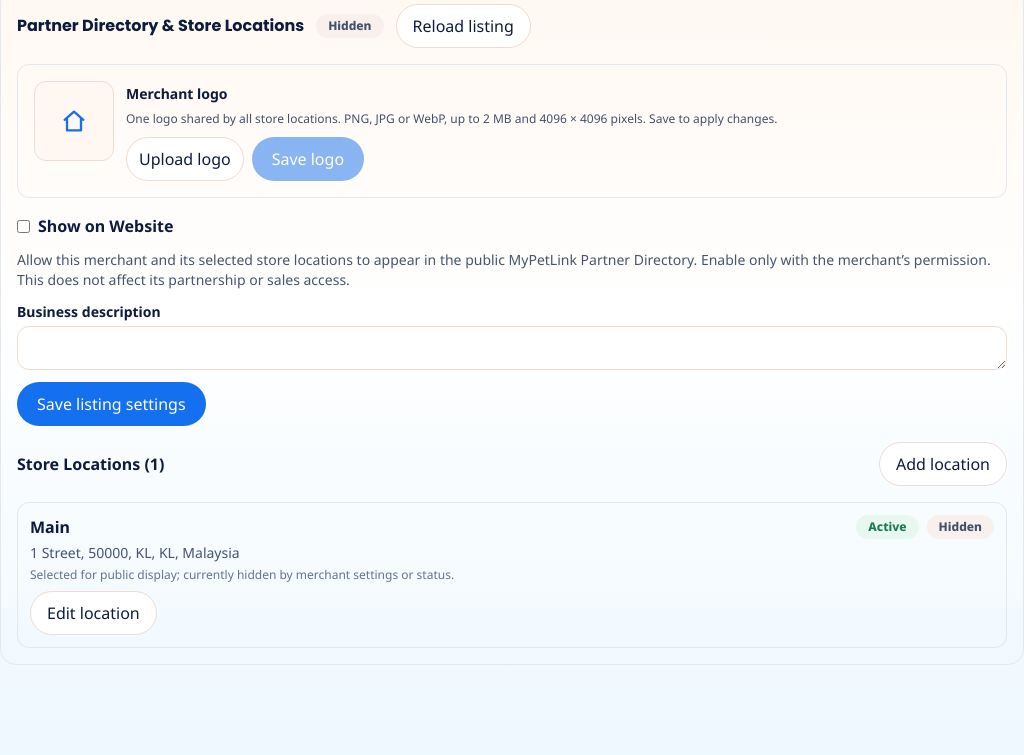
Test case: Merchant listing management › does not confirm or require evidence for branch edits that remain private
expect the heading "Main" is shown: met, box [30, 515, 70, 539]
Click the button "Edit location" at (93, 613), box [30, 591, 157, 635]
(page scrolled)
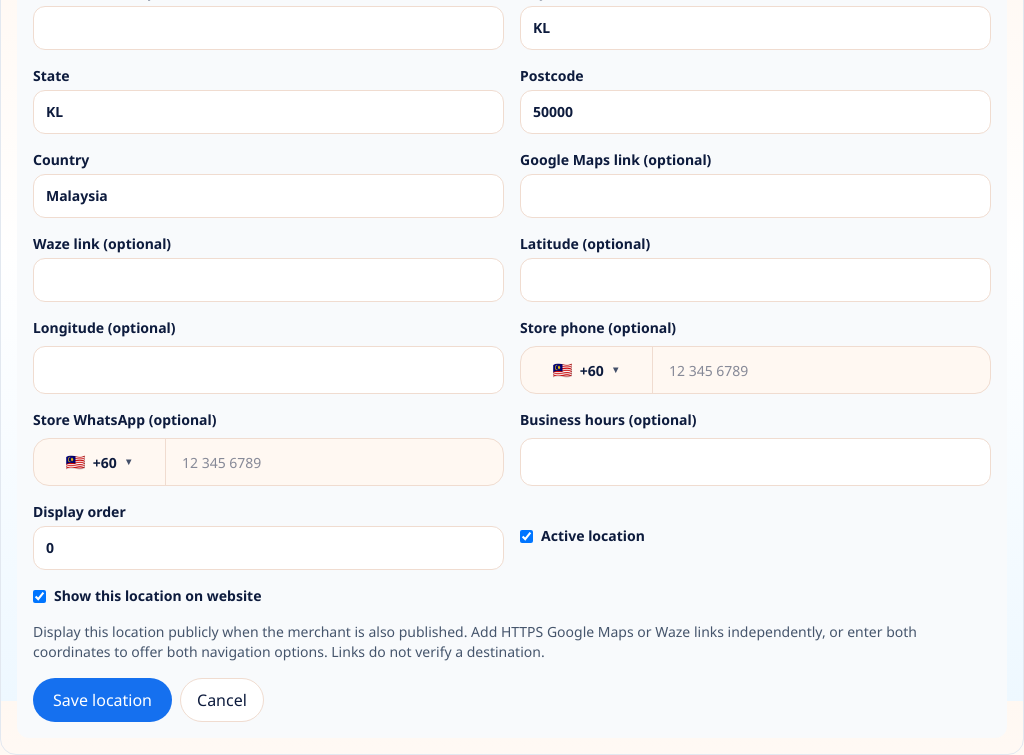
Click the checkbox labelled "Active location" at (526, 536), box [520, 530, 533, 542]
(page scrolled)
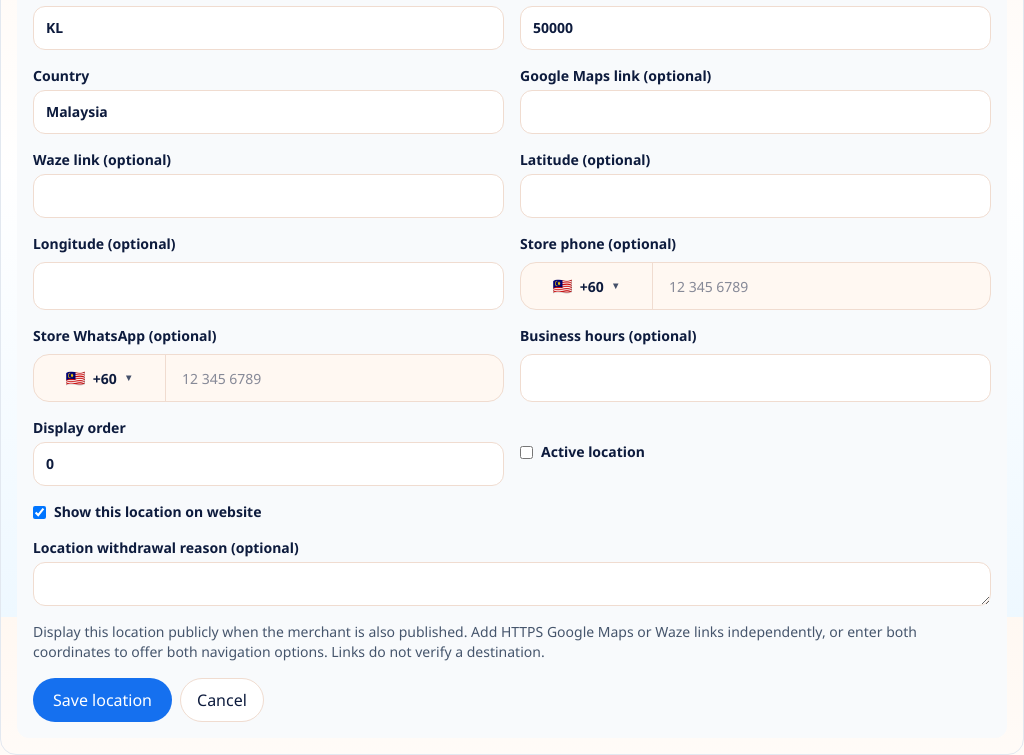
Click the button "Save location" at (102, 700), box [33, 678, 172, 722]
(page scrolled)
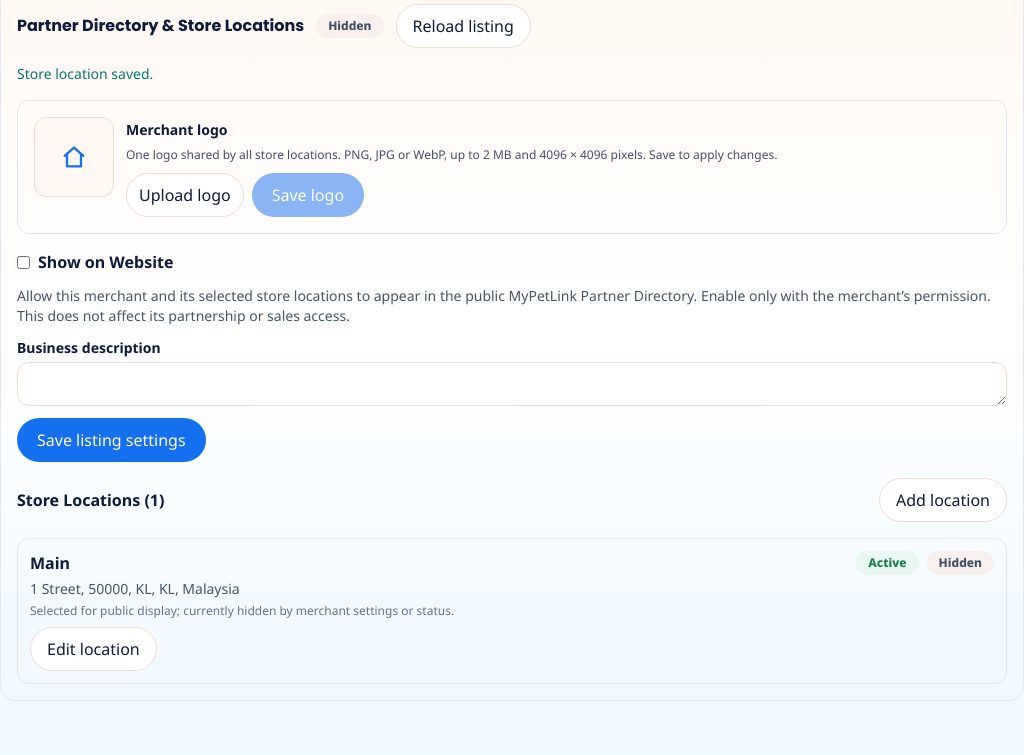
expect the text "Store location saved." is shown: met, box [17, 64, 153, 83]
